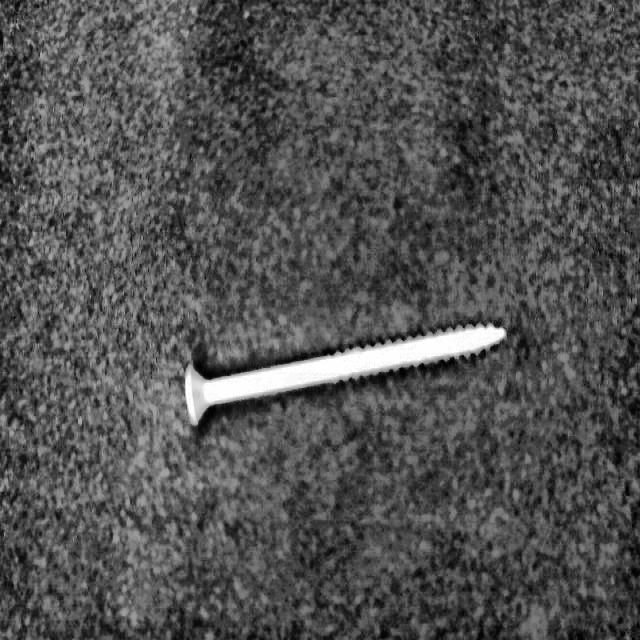Wood screw: (183, 320, 507, 427)
